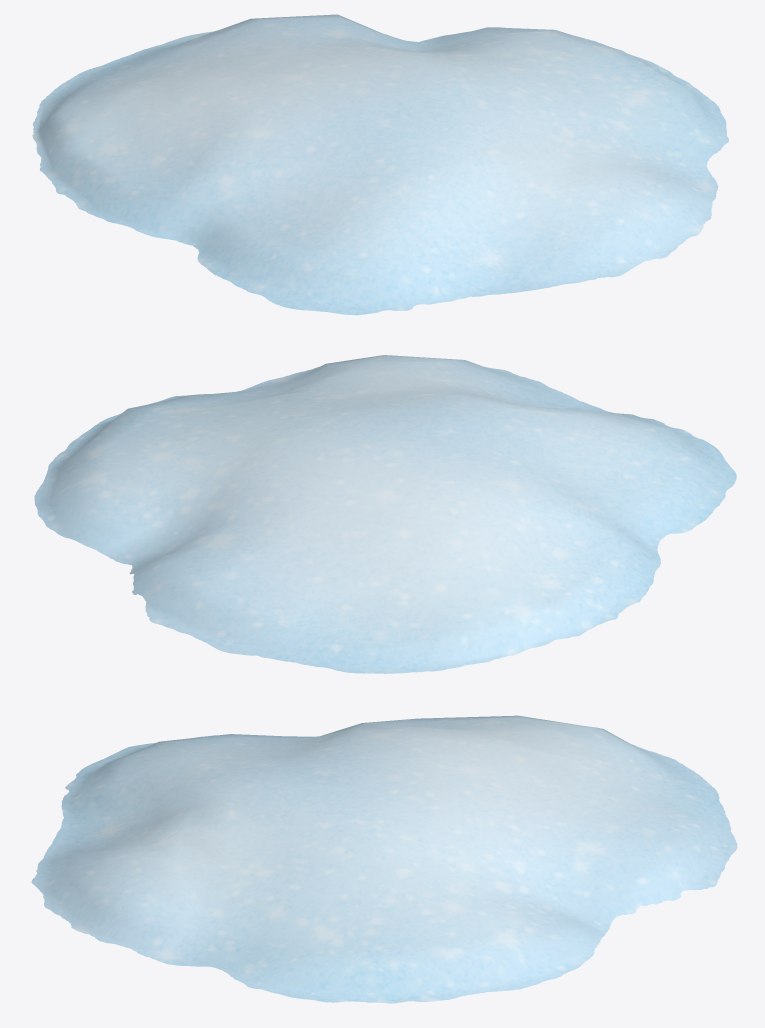
Rendered from snowPatch.fbx.
3 views of the same model, one above another, from view 1: azimuth 30°, elevation 25°; view 2: azimuth 150°, elevation 25°; view 3: azimuth 270°, elevation 25° (orthographic).
Visible parts, largest first — view 1: snowPatch_geo; view 2: snowPatch_geo; view 3: snowPatch_geo.
Part boxes in pixels (left/top/right/bottom): snowPatch_geo: left=32, top=14, right=728, bottom=315; snowPatch_geo: left=34, top=355, right=736, bottom=673; snowPatch_geo: left=31, top=715, right=737, bottom=1003.
Bounding box in the file's own units: 13.36 × 1.49 × 13.79.
